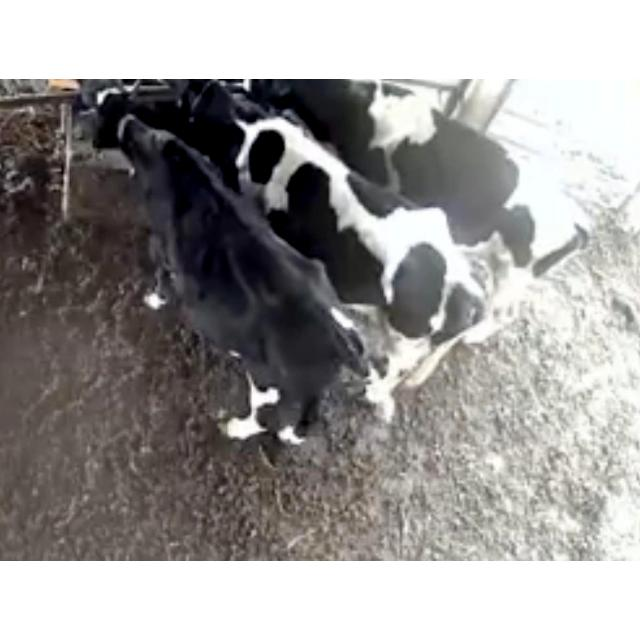drink: (78, 81, 186, 179), (188, 80, 274, 166), (271, 79, 363, 125)
